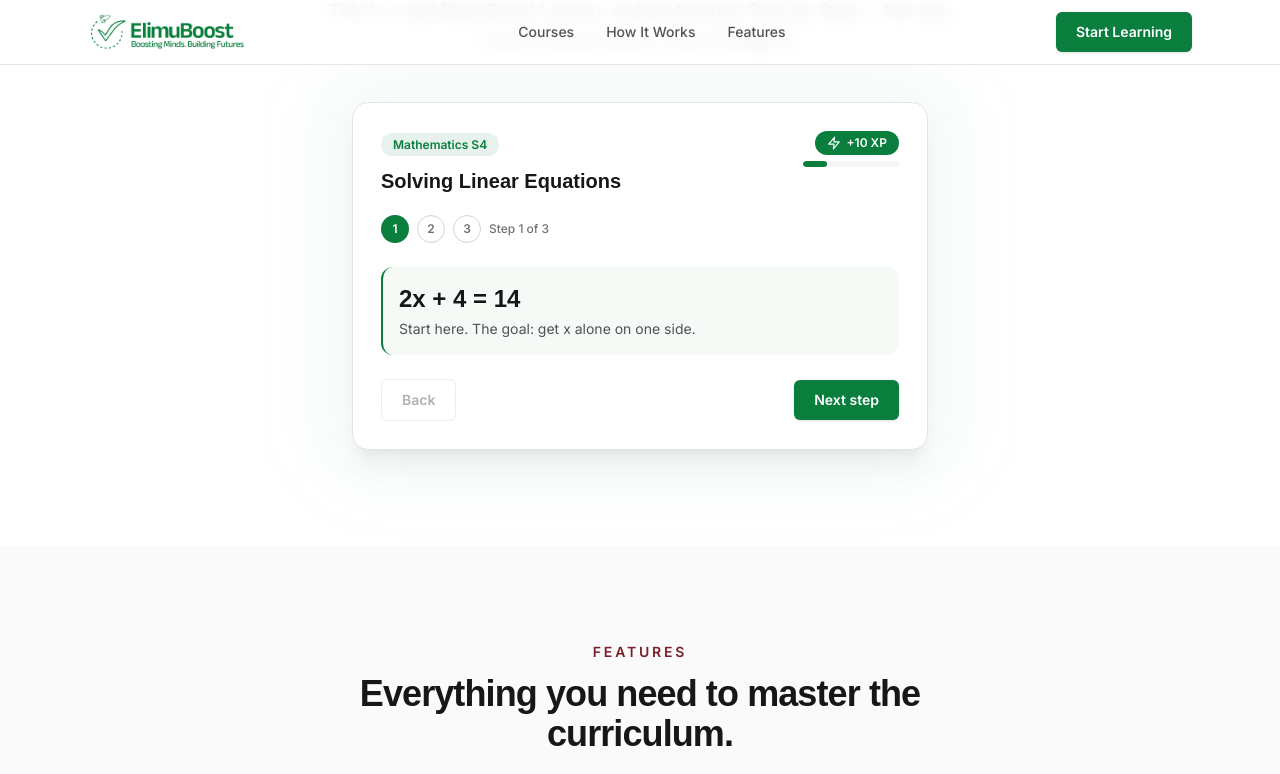
Test: Product preview › reveals Steps progressively with back/forward, updating progress and XP
The image size is (1280, 774).
(page scrolled)
Click the button "Next step" at (847, 400), box [794,380,899,420]
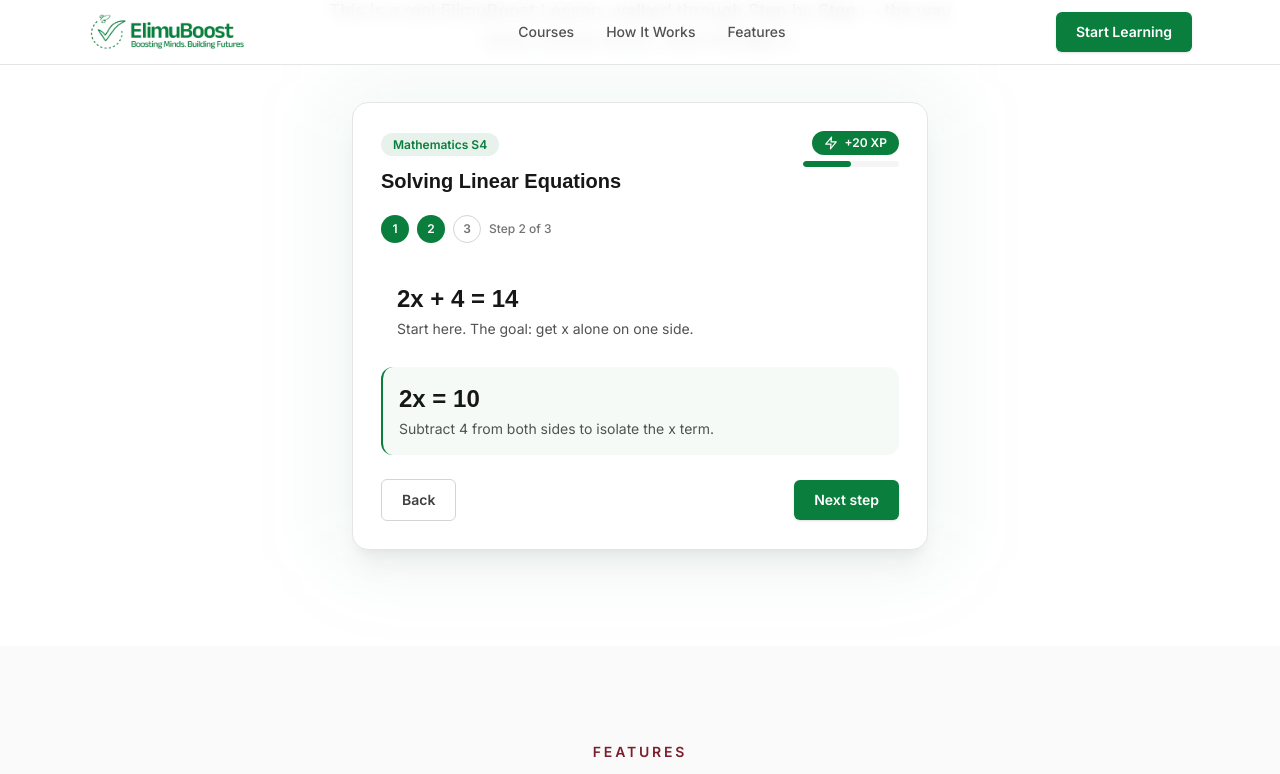
Now the text "2x = 10" is shown, box [399,385,480,412]
Now the text "Step 2 of 3" is shown, box [489,221,552,237]
Now the text "+20 XP" is shown, box [812,131,899,155]
Click the button "Back" at (419, 500), box [381,479,456,521]
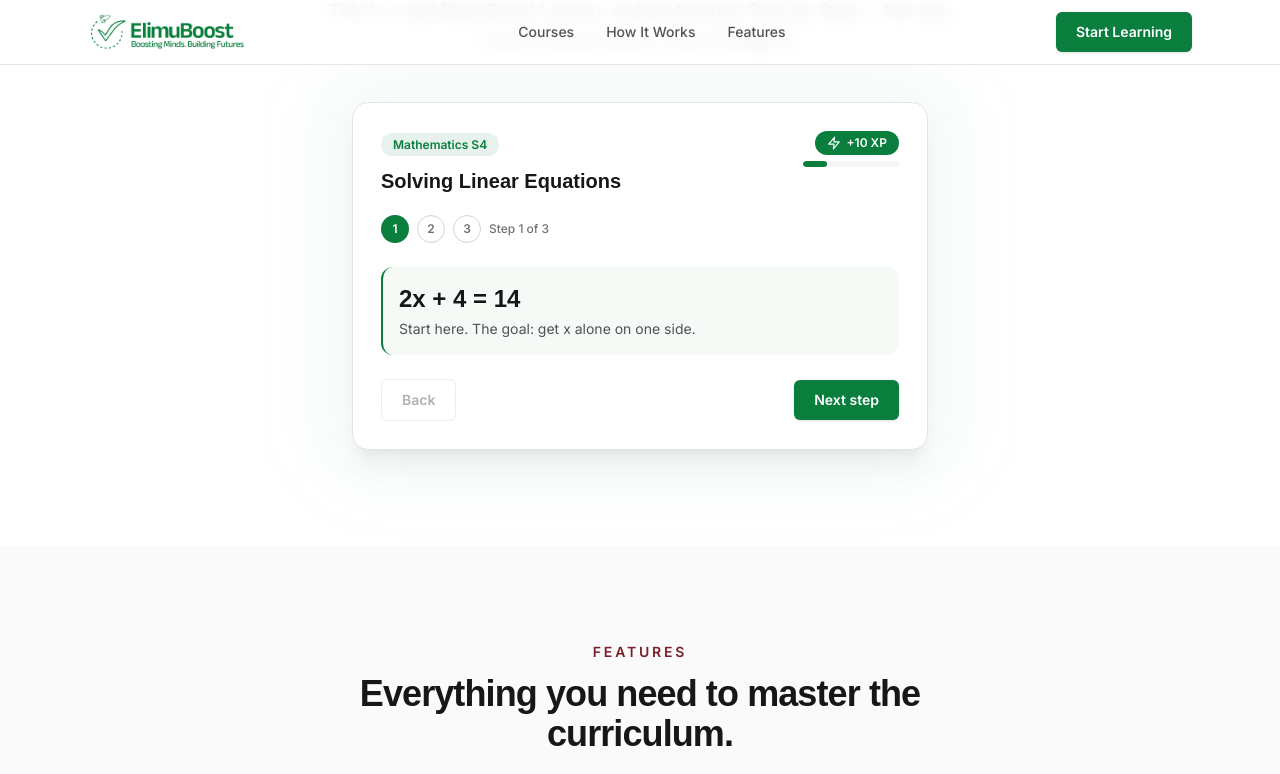
Now the text "2x = 10" is gone
Now the text "Step 1 of 3" is shown, box [489,221,549,237]
Now the text "+10 XP" is shown, box [814,131,899,155]
Click the button "Next step" at (847, 400), box [794,380,899,420]
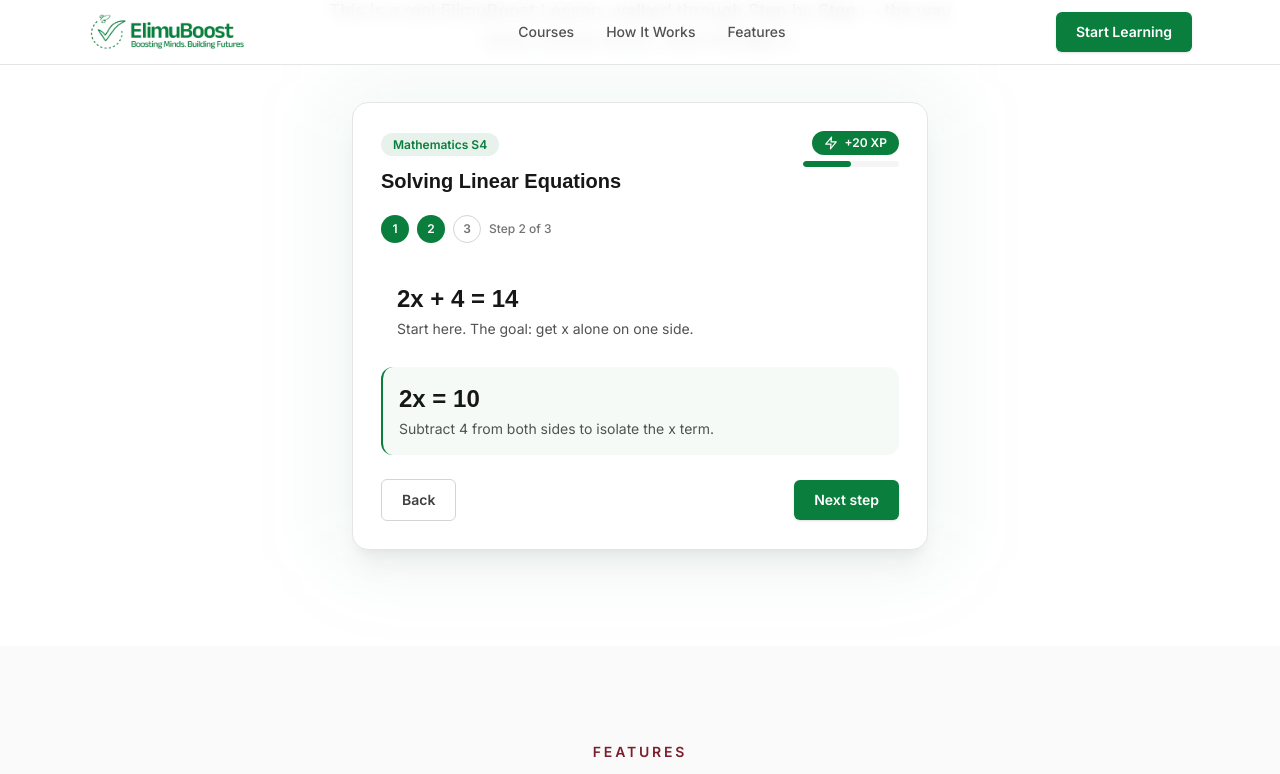
Click the button "Next step" at (847, 500), box [794,480,899,520]
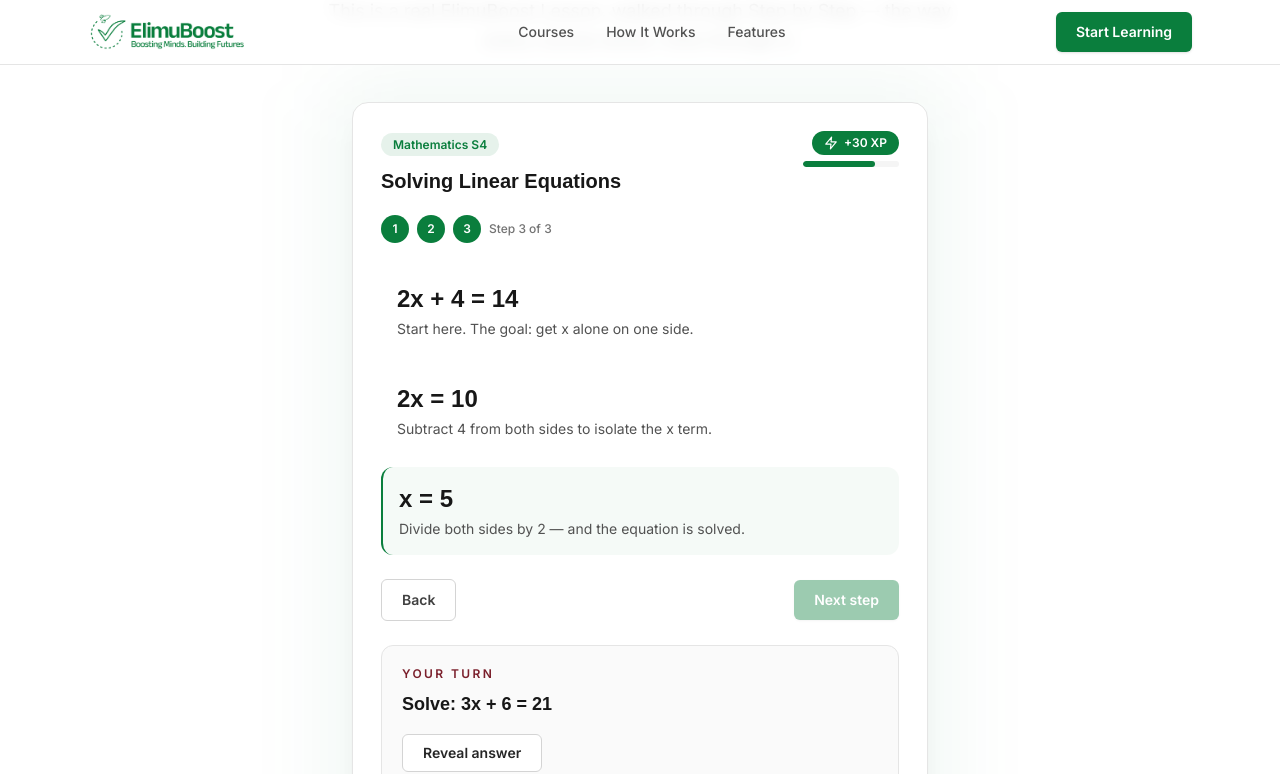
Now the text "x = 5" is shown, box [399,485,453,512]
Now the text "Step 3 of 3" is shown, box [489,221,552,237]
Now the text "+30 XP" is shown, box [812,131,899,155]
